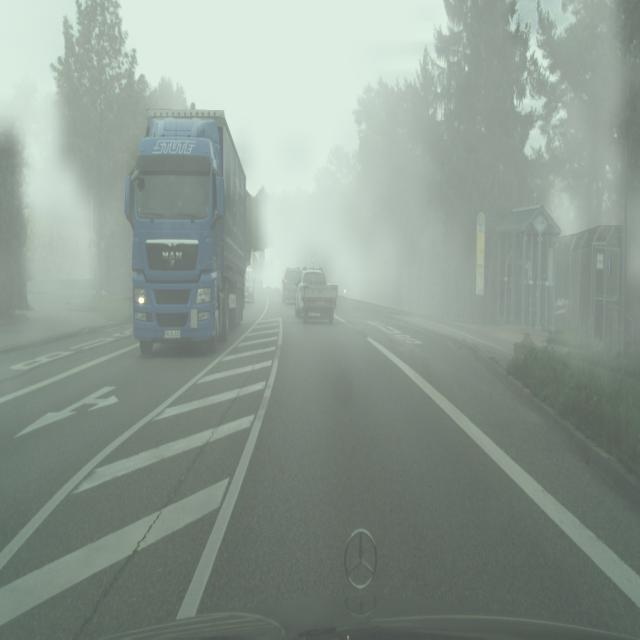car: (124, 108, 248, 357), (294, 268, 338, 325)
person: (281, 268, 302, 304), (244, 266, 255, 303)
